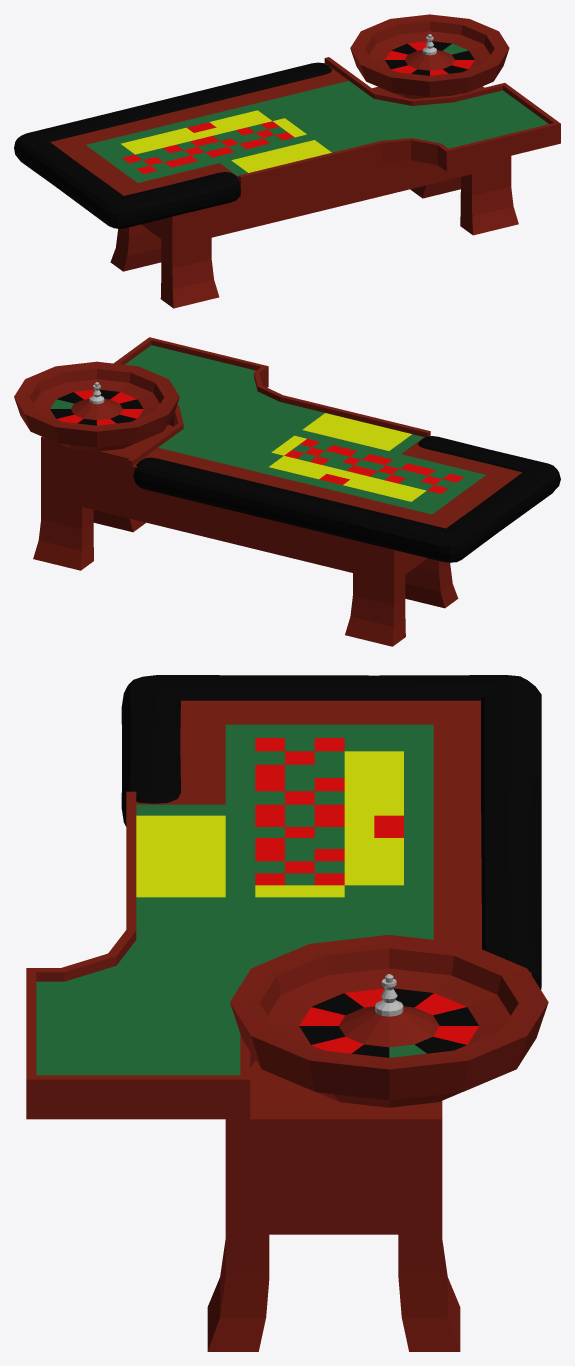
Rendered from prop_ruletti.fbx.
The picture shows the model from 3 angles, top to bottom: view 1: azimuth 30°, elevation 25°; view 2: azimuth 150°, elevation 25°; view 3: azimuth 270°, elevation 25°; orthographic projection. The views are drawn at different scales.
Visible parts, largest first — view 1: Cube.006; view 2: Cube.006; view 3: Cube.006.
Boxes of the visible parts, x1,y1,x2,y2 form: Cube.006: (14, 14, 560, 308); Cube.006: (14, 337, 560, 646); Cube.006: (26, 675, 548, 1351).
Size of the model in its own units: 918 by 324 by 459.
